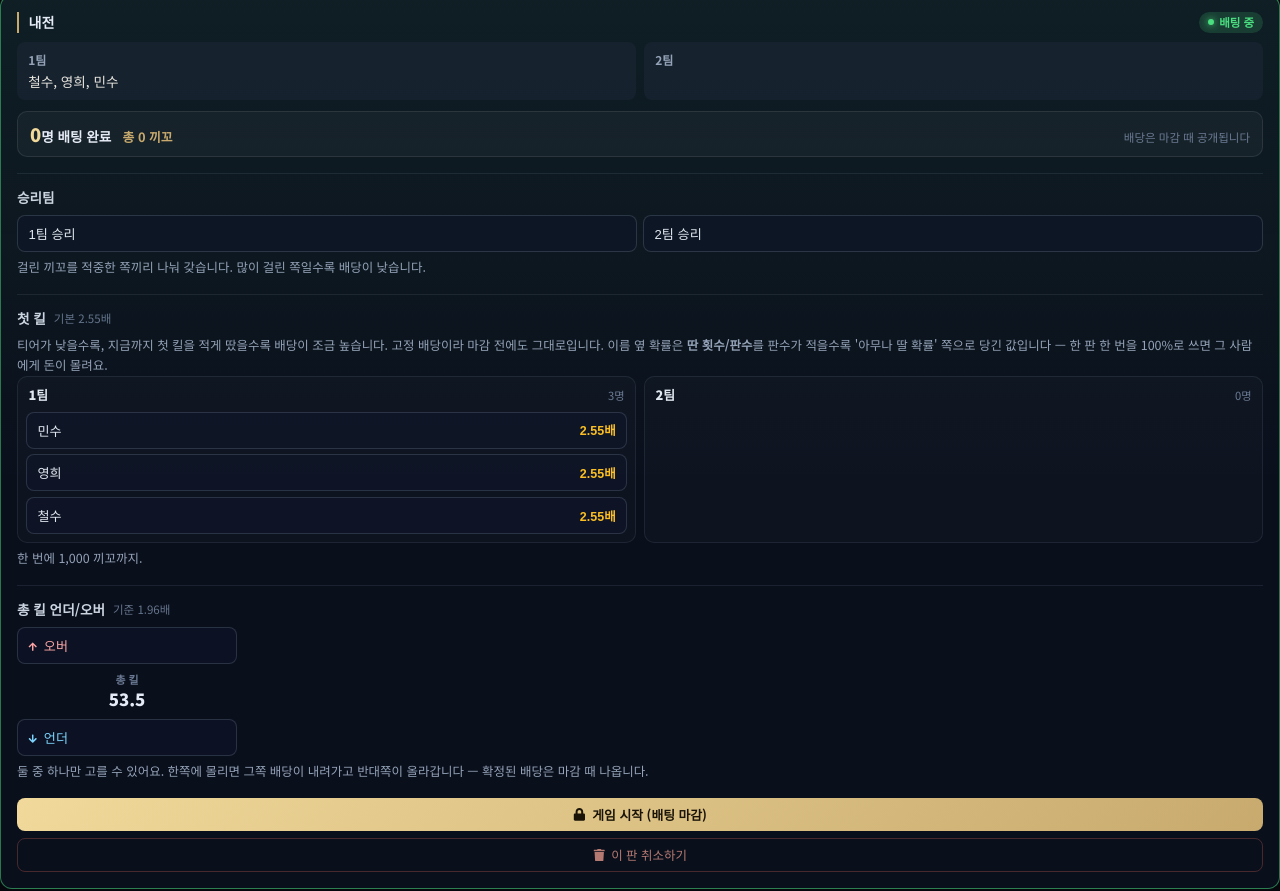
it: 내전: 총 킬 한 칸, 승리팀은 묶을 수 없다
Expected: the number of elements with class "kill-col" is 1, [17, 627, 237, 756]
What coordinates should you click on to do the following:
click the button with class "bet-opt" showing "1팀 승리"
I would click on:
 (52, 234)
Its box is [17, 215, 637, 252].
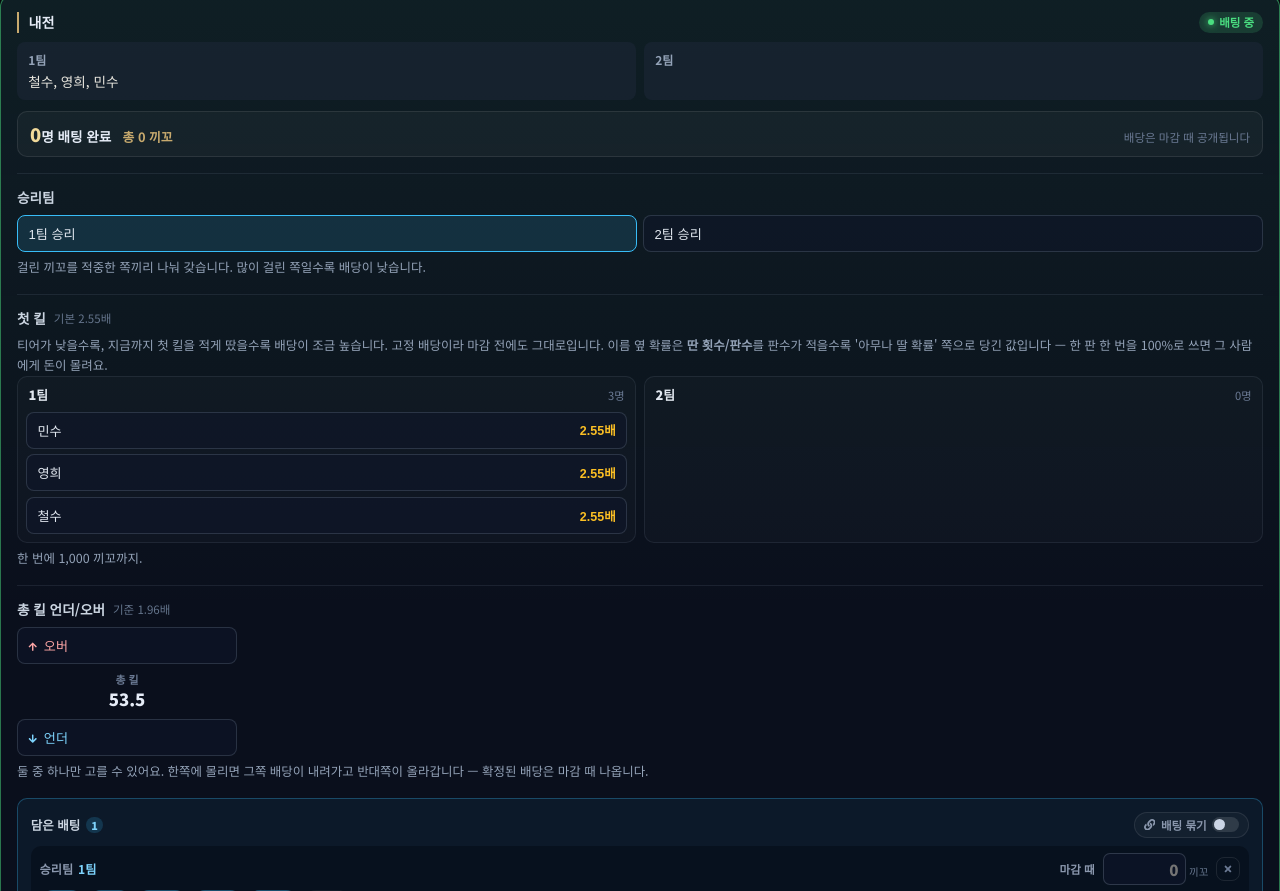
What coordinates should you click on to do the following:
click the button with class "bet-opt" showing "오버"
I would click on:
 (127, 646)
Its box is [17, 627, 237, 664].
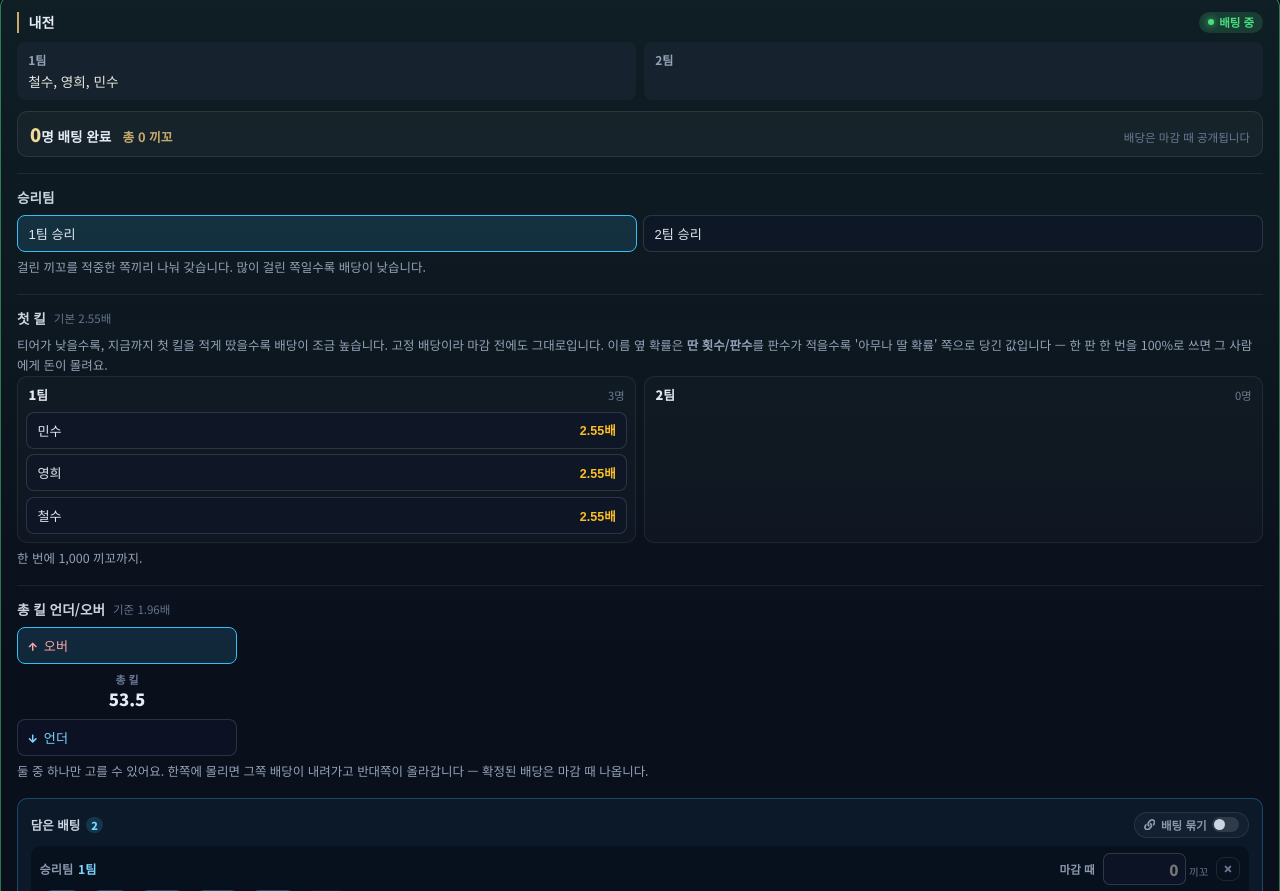
What coordinates should you click on to do the following:
click the button "배팅 묶기"
I would click on:
 (1192, 825)
Its box is [1134, 812, 1249, 838].
(page scrolled)
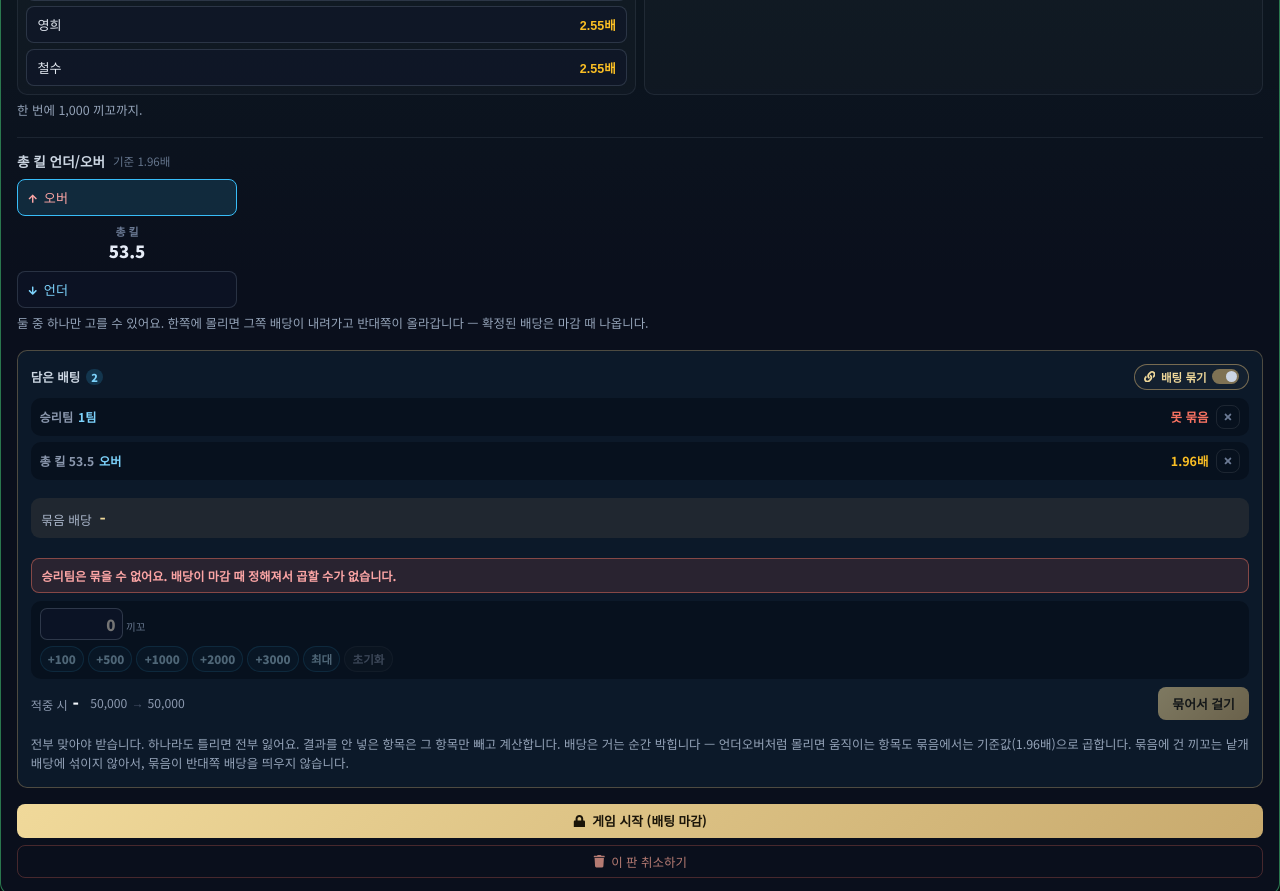
Result: the element with class "bet-cart" shows "승리팀은 묶을 수 없어요" at [41, 567, 396, 585]
